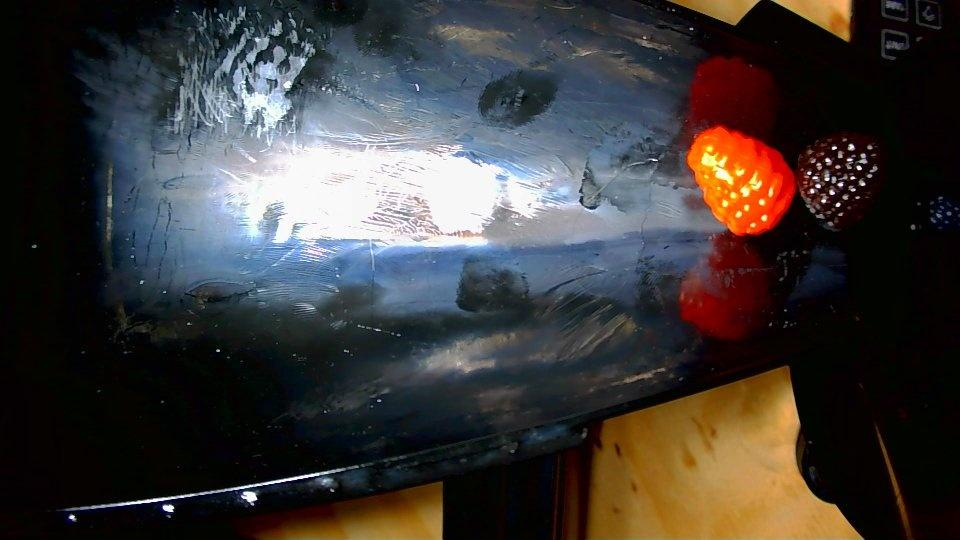berry: (687, 125, 795, 234), (798, 133, 884, 228), (908, 194, 959, 242)
